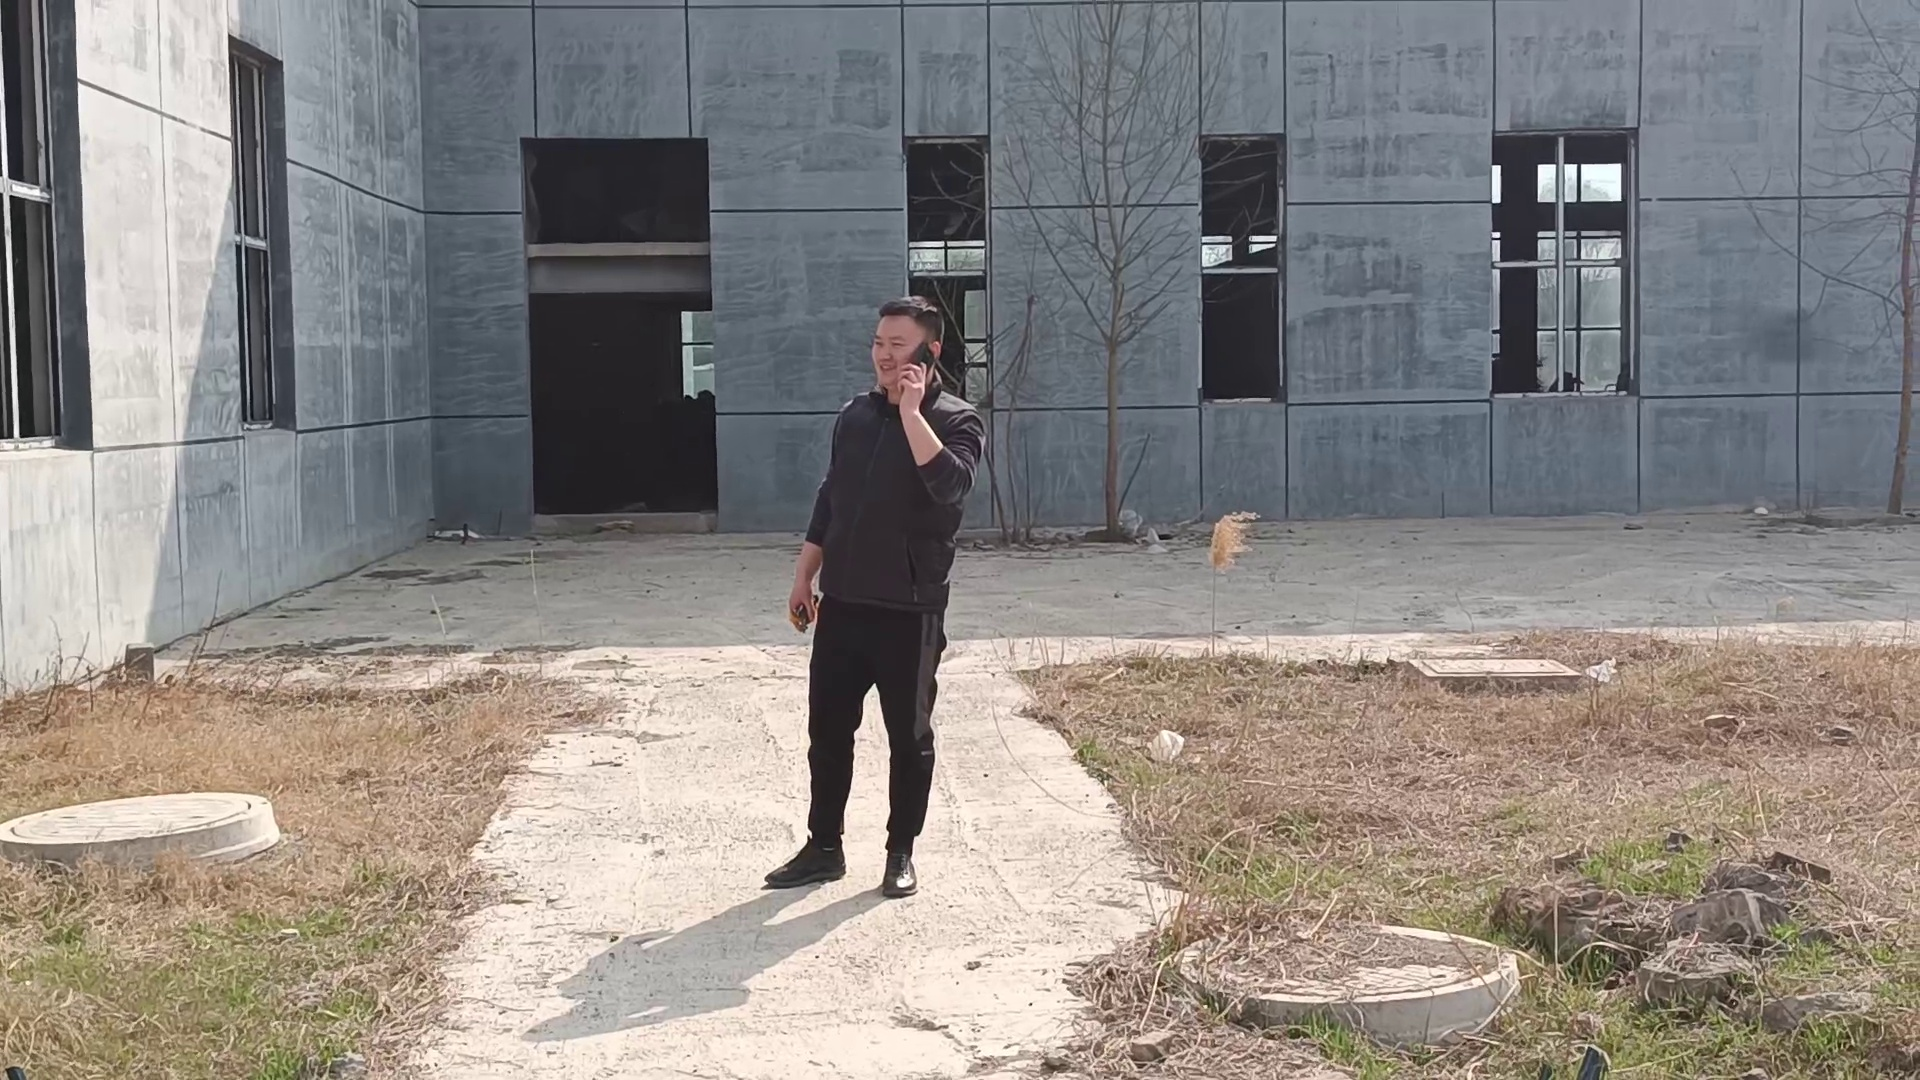phone: (856, 287, 953, 413)
